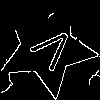V: (22, 23, 78, 79)
